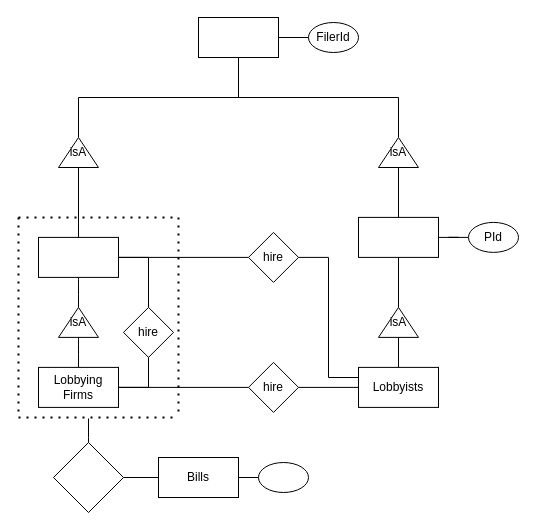
Some shapes in this 536 by 530 pixel diagram are drawn without their labels. Each missing label, with the centre of its shape:
BillId: the point at 283,477
Filers: the point at 238,37
influence: the point at 88,477
Organizations: the point at 78,256
Persons: the point at 398,236
